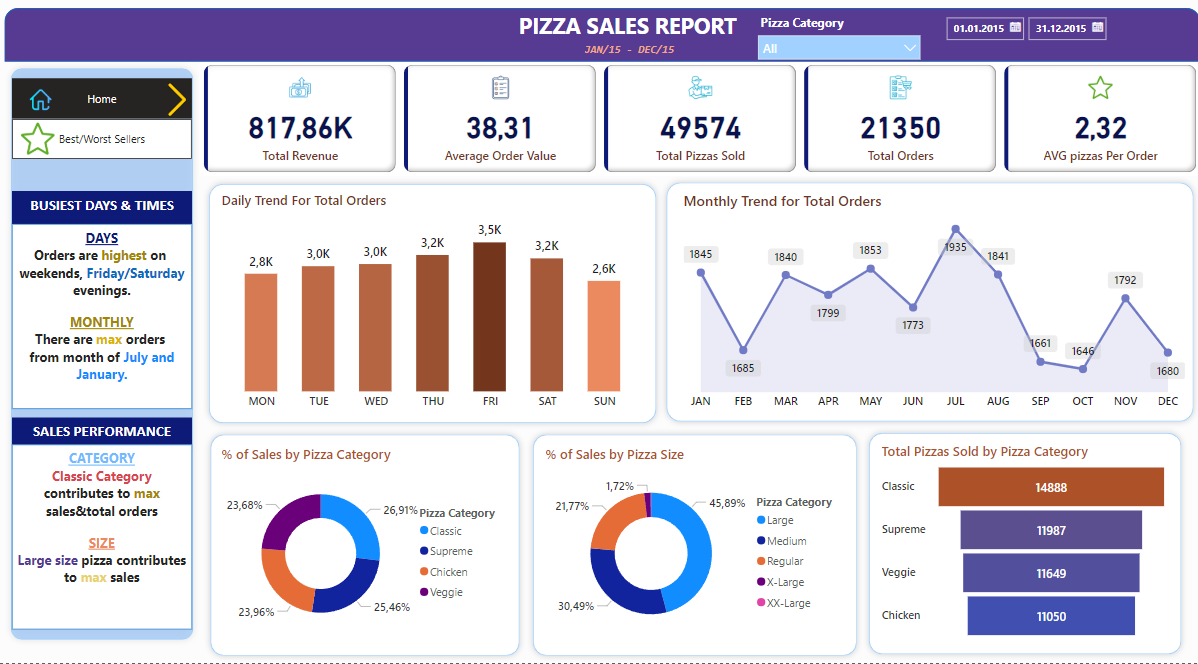

The page's visual inventory and layout, read from the dashboard file:
{"tool":"powerbi","page":{"name":"Home","canvas":[1500,820],"ordinal":0},"visuals":[{"type":"cardVisual","fields":{"Data":["public pizzas.Total Revenue","public pizzas.Average Order Value","public pizzas.Total Pizzas Sold","public pizzas.Total Orders","public pizzas.AVG pizzas Per Order"]},"box":[256,80,1230,142],"z":0},{"type":"shape","box":[16.6,81.2,240,718],"z":500},{"type":"shape","box":[16,14,1470,66],"z":1000},{"type":"textbox","box":[632,12,308,54],"z":2000},{"type":"textbox","box":[724,50,142,30],"z":3000},{"type":"shape","box":[260,224,566,310],"z":4000},{"type":"clusteredColumnChart","title":"Daily Trend For Total Orders","fields":{"Category":["public pizzas.Order day"],"Y":["public pizzas.Total Orders"]},"box":[278,240,530,278],"z":5000},{"type":"shape","box":[822,222,664,310],"z":6000},{"type":"areaChart","title":"Monthly Trend for Total Orders","fields":{"Category":["public pizzas.Order Month"],"Y":["public pizzas.Total Orders"]},"box":[846,240,626,278],"z":7000},{"type":"shape","box":[262,532,396,288],"z":8000},{"type":"shape","box":[658,532,414,288],"z":9000},{"type":"shape","box":[1072,530,400,288],"z":10000},{"type":"donutChart","title":"% of Sales by Pizza Category","fields":{"Category":["public pizzas.pizza_category"],"Y":["public pizzas.Total Revenue"]},"box":[278,552,362,246],"z":11000},{"type":"donutChart","title":"% of Sales by Pizza Size","fields":{"Y":["public pizzas.Total Revenue"],"Category":["public pizzas.pizza_size"]},"box":[676,552,378,246],"z":12000},{"type":"funnel","title":"Total Pizzas Sold by  Pizza Category","fields":{"Category":["public pizzas.pizza_category"],"Y":["public pizzas.Total Pizzas Sold"]},"box":[1090,548,362,248],"z":14000},{"type":"textbox","box":[25.8,240,221.5,40.6],"z":15000},{"type":"textbox","box":[25.8,280.6,221.5,227],"z":15001},{"type":"textbox","box":[25.8,518.7,221.5,40.6],"z":15002},{"type":"textbox","box":[25.8,551.9,221.5,227],"z":15003},{"type":"slicer","fields":{"Values":["public pizzas.pizza_category"]},"box":[934,16.6,219.7,66.4],"z":15004},{"type":"slicer","fields":{"Values":["public pizzas.order_date"]},"box":[1161,16.6,238.1,62.8],"z":15005},{"type":"pageNavigator","box":[25.8,101.5,221.5,49.8],"z":15006},{"type":"pageNavigator","box":[25.8,151.4,221.5,49.8],"z":15007},{"type":"image","box":[201.2,101.5,55.4,51.7],"z":15008},{"type":"image","box":[42.5,101.5,36.9,51.7],"z":15009},{"type":"image","box":[29.5,149.5,55.4,51.7],"z":15010}]}

Visuals, with their boxes in screenshot pixels (x1, y1, x2, y2), scaled from the page's 1500x820 canvas onto the 1198x664 screenshot:
cardVisual - public pizzas.Total Revenue x public pizzas.Average Order Value: <region>204, 65, 1187, 180</region>
shape: <region>13, 66, 205, 647</region>
shape: <region>13, 11, 1187, 65</region>
textbox: <region>505, 10, 751, 53</region>
textbox: <region>578, 40, 692, 65</region>
shape: <region>208, 181, 660, 432</region>
"Daily Trend For Total Orders" clusteredColumnChart: <region>222, 194, 645, 419</region>
shape: <region>657, 180, 1187, 431</region>
"Monthly Trend for Total Orders" areaChart: <region>676, 194, 1176, 419</region>
shape: <region>209, 431, 526, 663</region>
shape: <region>526, 431, 856, 663</region>
shape: <region>856, 429, 1176, 662</region>
"% of Sales by Pizza Category" donutChart: <region>222, 447, 511, 646</region>
"% of Sales by Pizza Size" donutChart: <region>540, 447, 842, 646</region>
"Total Pizzas Sold by  Pizza Category" funnel: <region>871, 444, 1160, 645</region>
textbox: <region>21, 194, 198, 227</region>
textbox: <region>21, 227, 198, 411</region>
textbox: <region>21, 420, 198, 453</region>
textbox: <region>21, 447, 198, 631</region>
slicer - public pizzas.pizza_category: <region>746, 13, 921, 67</region>
slicer - public pizzas.order_date: <region>927, 13, 1117, 64</region>
pageNavigator: <region>21, 82, 198, 123</region>
pageNavigator: <region>21, 123, 198, 163</region>
image: <region>161, 82, 205, 124</region>
image: <region>34, 82, 63, 124</region>
image: <region>24, 121, 68, 163</region>
